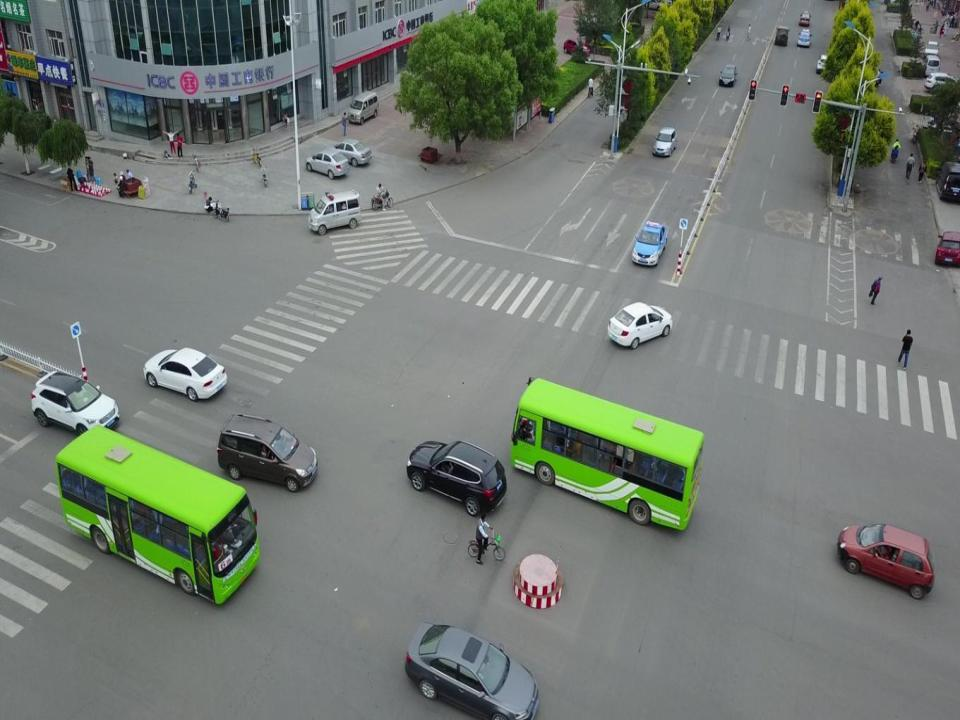bus: (54, 424, 262, 606), (510, 376, 705, 532)
car: (404, 619, 540, 720), (217, 412, 319, 493), (406, 438, 507, 518), (836, 524, 936, 600), (30, 370, 122, 439), (143, 347, 228, 402), (606, 301, 673, 350), (631, 221, 668, 268), (304, 148, 350, 180), (324, 138, 372, 168), (934, 231, 960, 270), (652, 126, 678, 157), (924, 72, 959, 94), (563, 37, 590, 58), (718, 64, 738, 88), (774, 25, 790, 47), (816, 53, 832, 74), (796, 28, 812, 48), (924, 39, 940, 58), (798, 10, 812, 26)
van: (308, 188, 362, 237), (347, 90, 380, 126), (935, 160, 960, 205), (923, 54, 940, 77)
